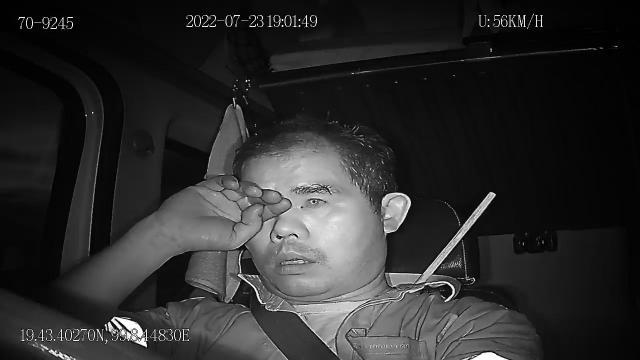SafeDriving: (299, 188, 333, 210)
Seatbelt: (249, 286, 343, 360)
